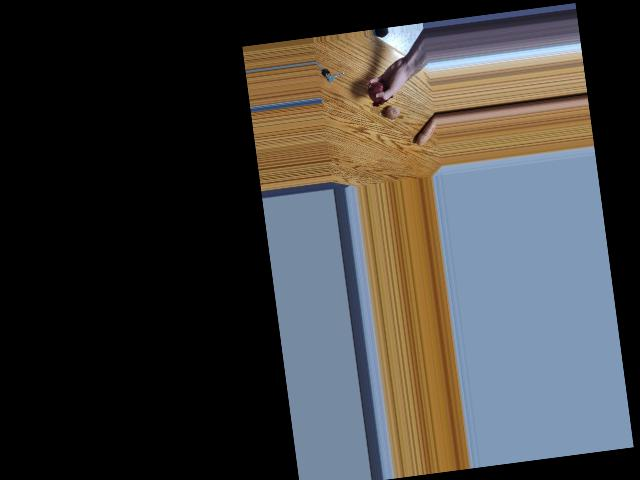onion: (366, 82, 386, 103)
